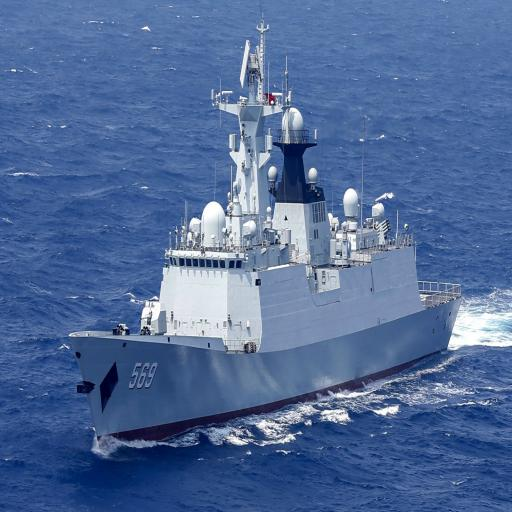Fragata: (1, 11, 311, 459)
